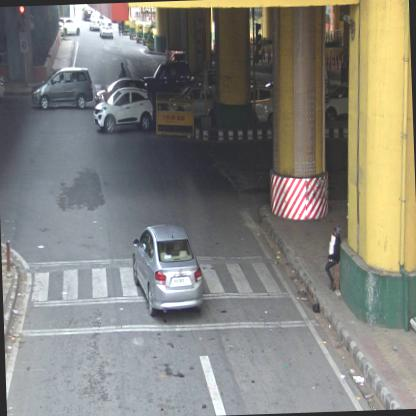car: (131, 223, 203, 316), (94, 86, 154, 132), (30, 66, 94, 108), (142, 61, 190, 98), (58, 18, 80, 38), (89, 12, 104, 29), (100, 19, 112, 38)
